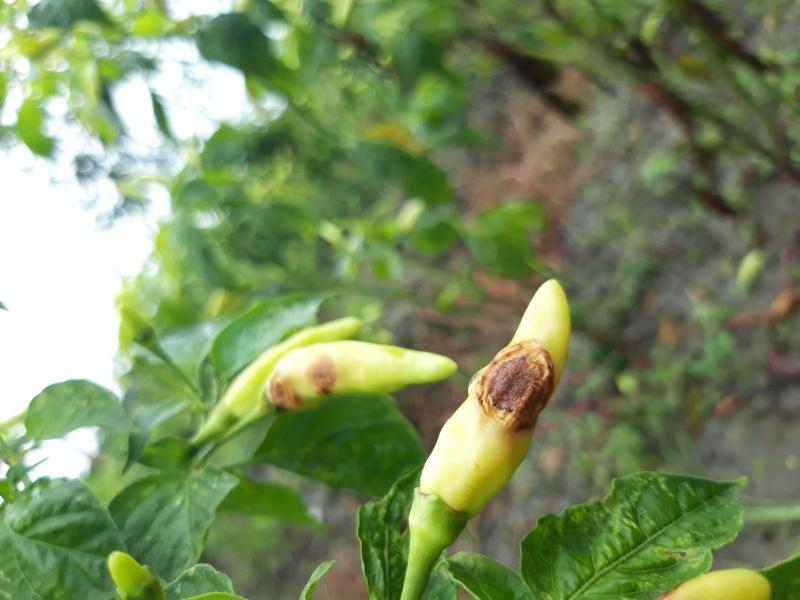antraknosa: (419, 279, 570, 509), (265, 340, 457, 413)
